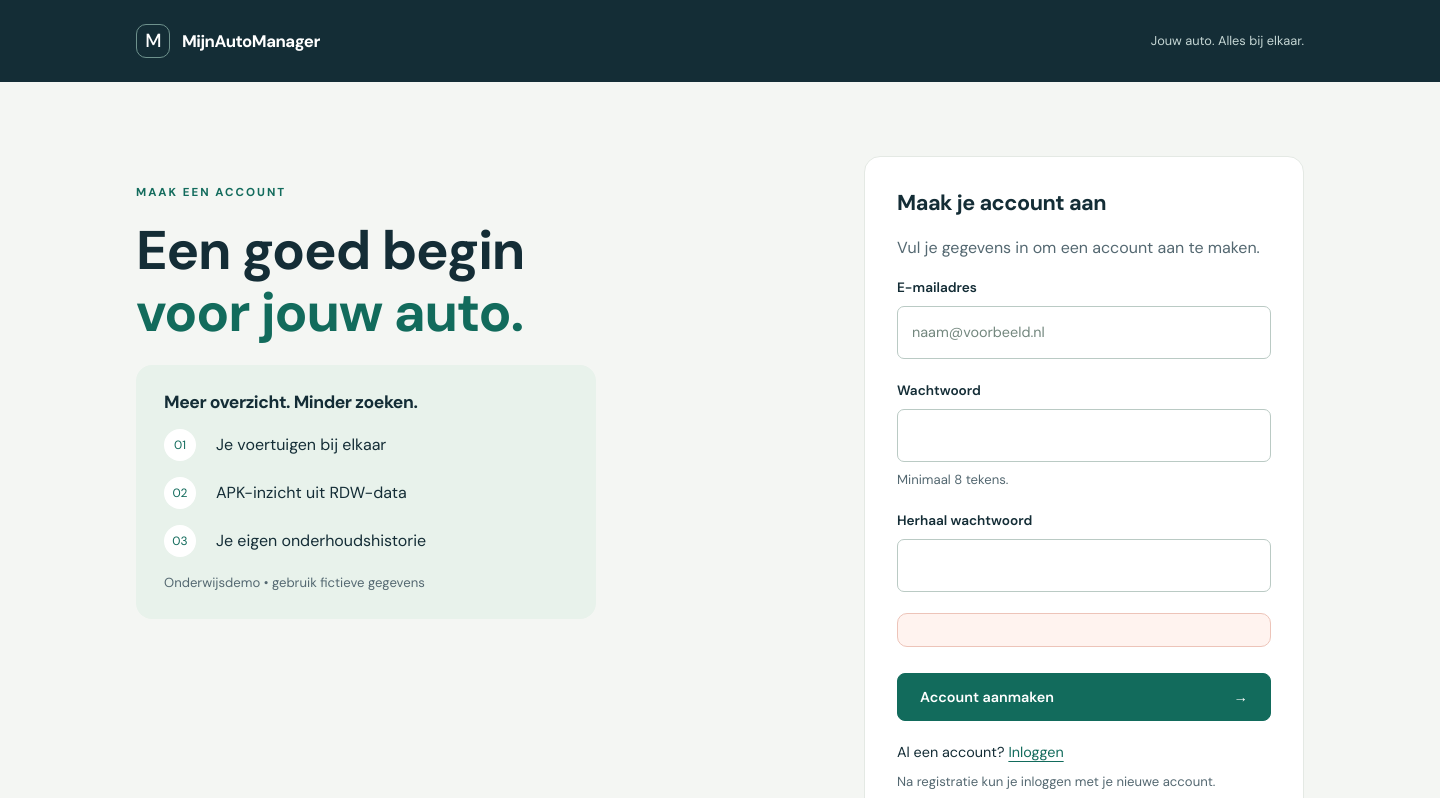
it: eerste bouwstap › weigert verschillende registratie-wachtwoorden zonder account aan te maken
Type "new@example.com" into the field labelled "E-mailadres" at coordinates (1084, 332), box x1=897 y1=306 x2=1271 y2=359
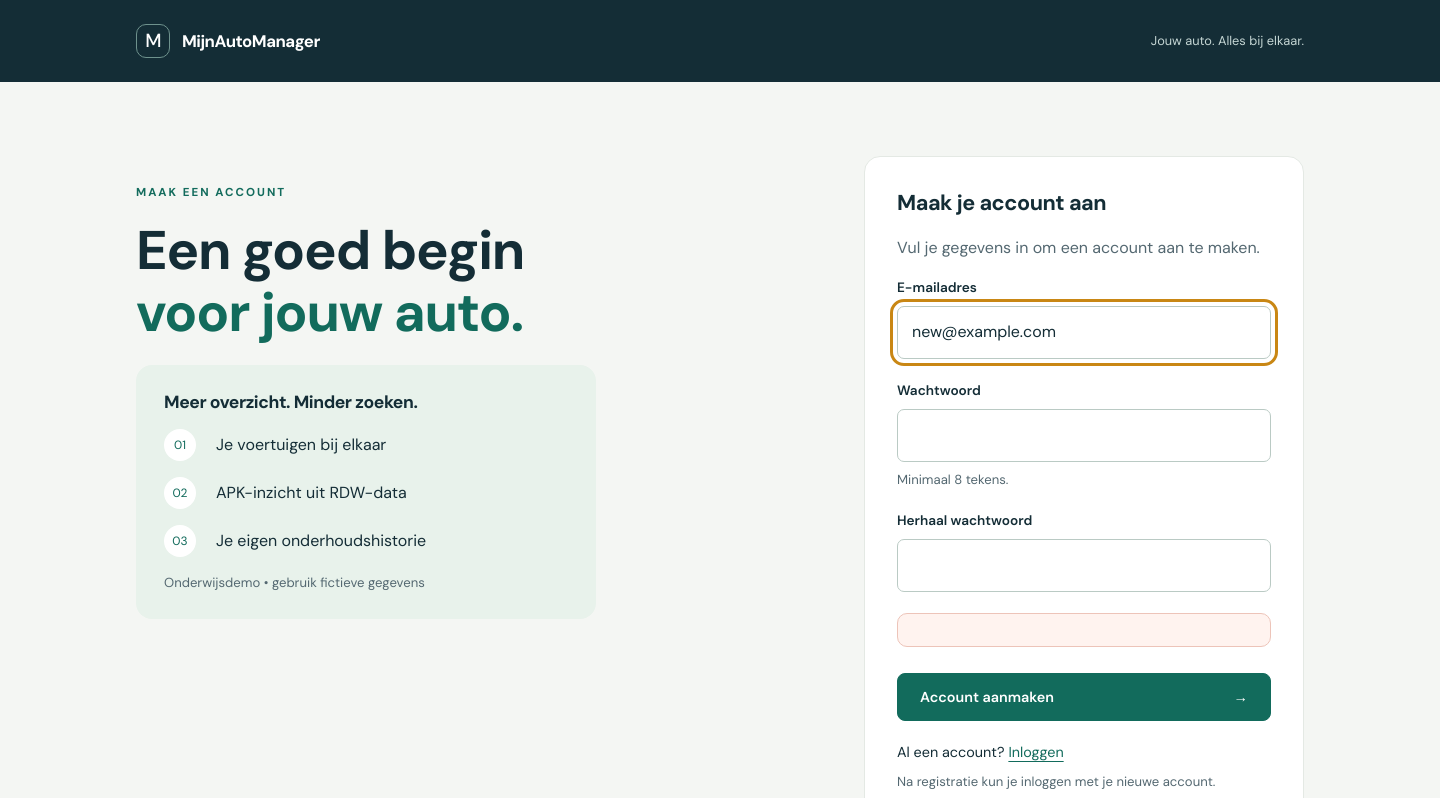
Type "fictief-testinvoer" into the password field labelled "Wachtwoord" at coordinates (1084, 435), box x1=897 y1=409 x2=1271 y2=462
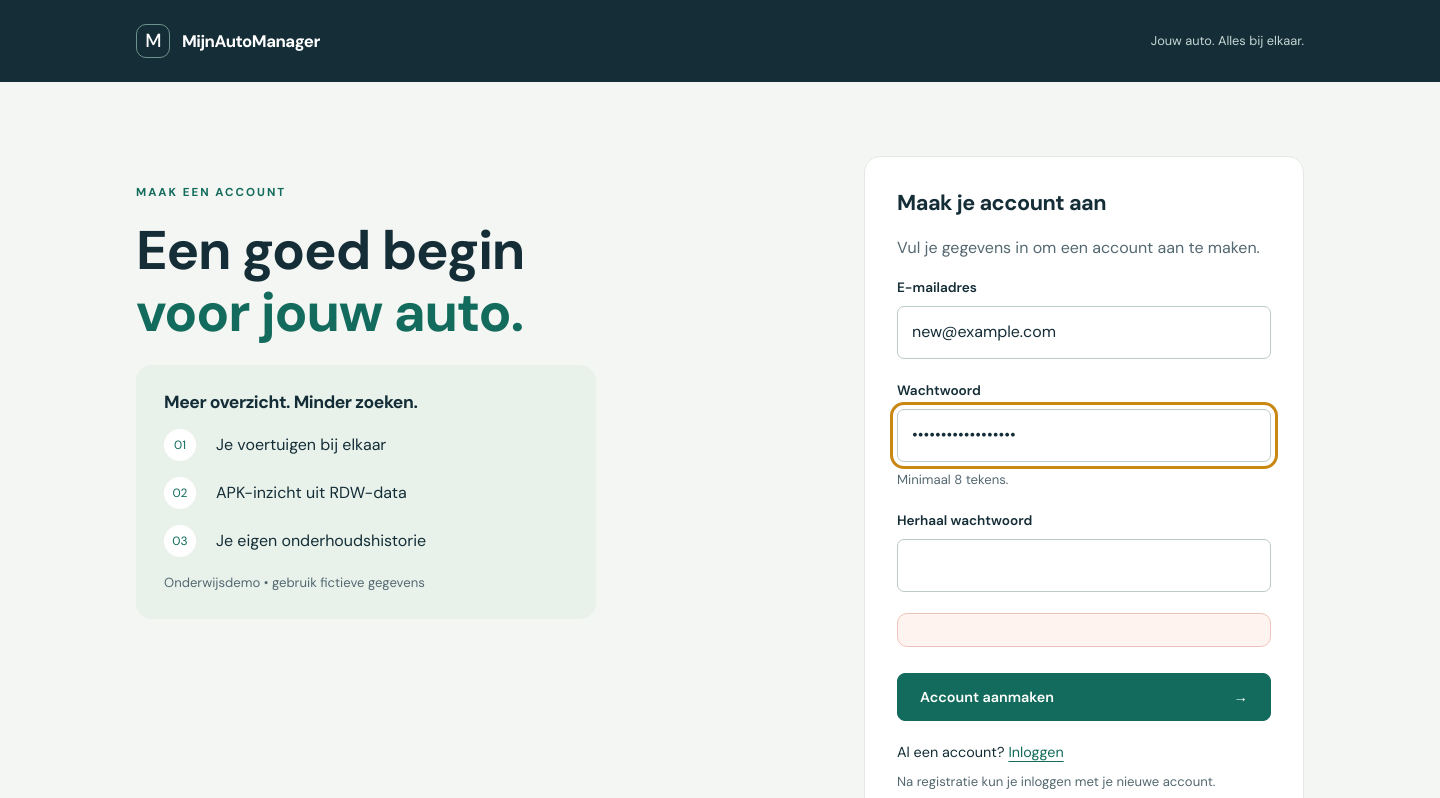
Type "andere-testinvoer" into the password field labelled "Herhaal wachtwoord" at coordinates (1084, 566), box x1=897 y1=539 x2=1271 y2=592
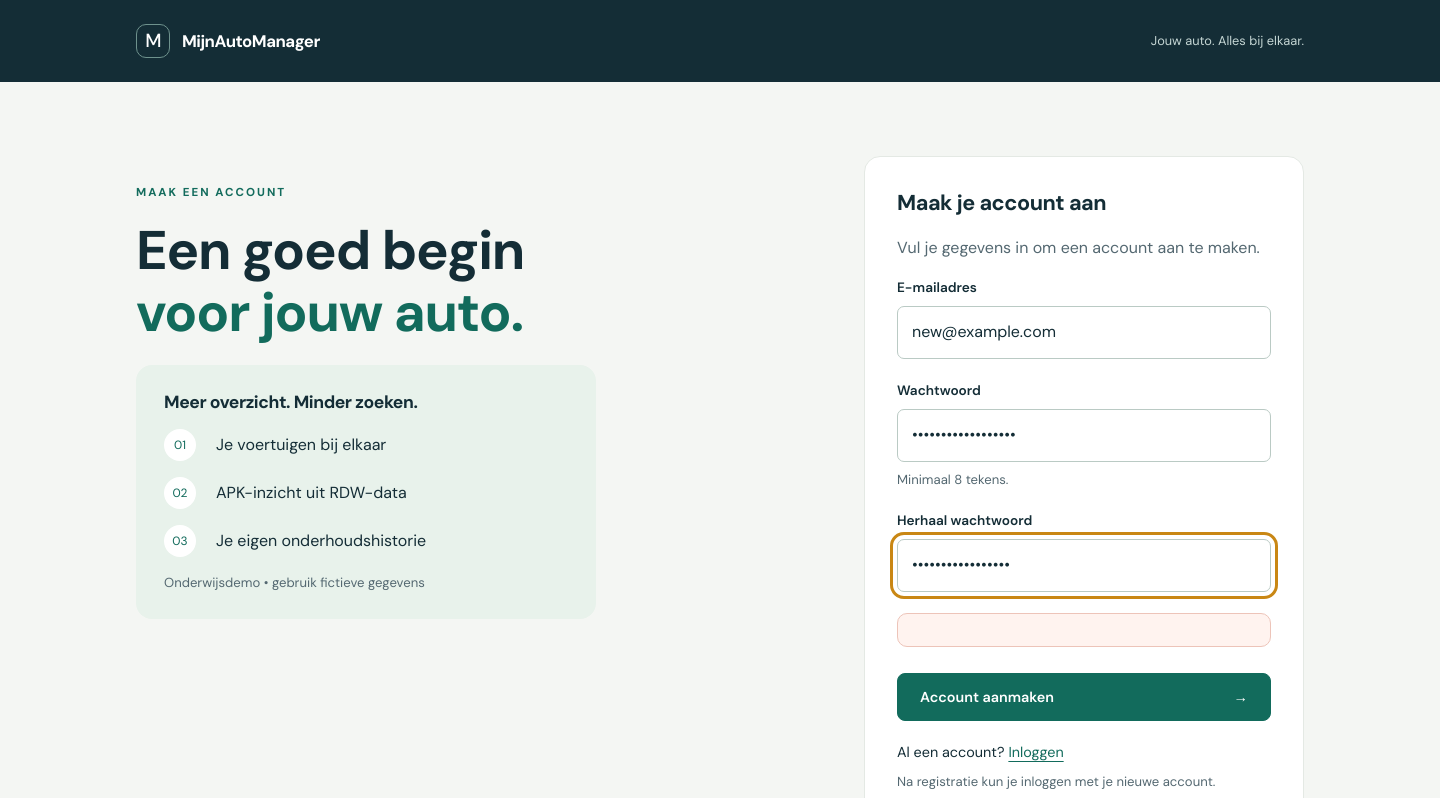
Click the button "Account aanmaken →" at coordinates (987, 697), box x1=897 y1=673 x2=1271 y2=721
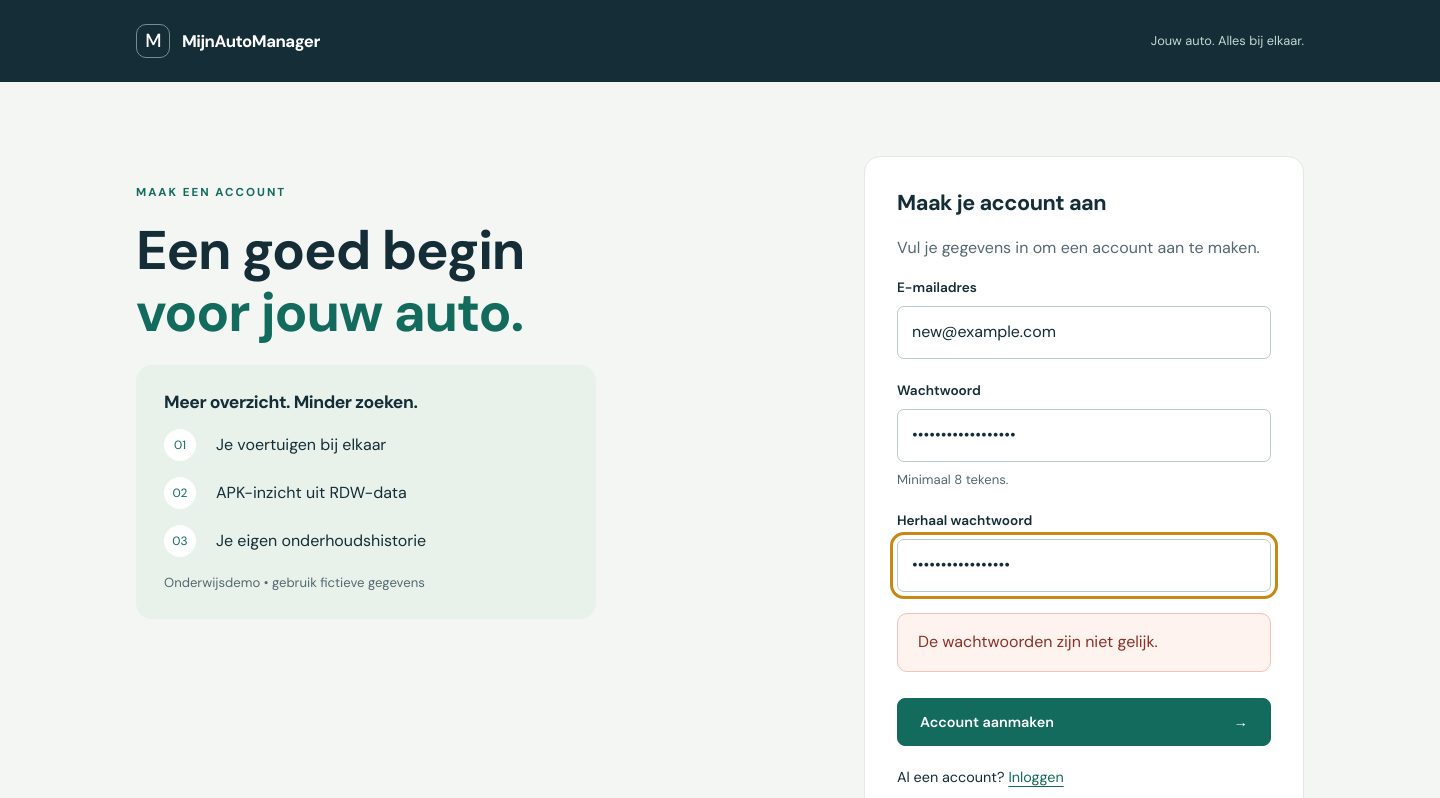
Now the message shows "niet gelijk", box x1=918 y1=631 x2=1158 y2=652
